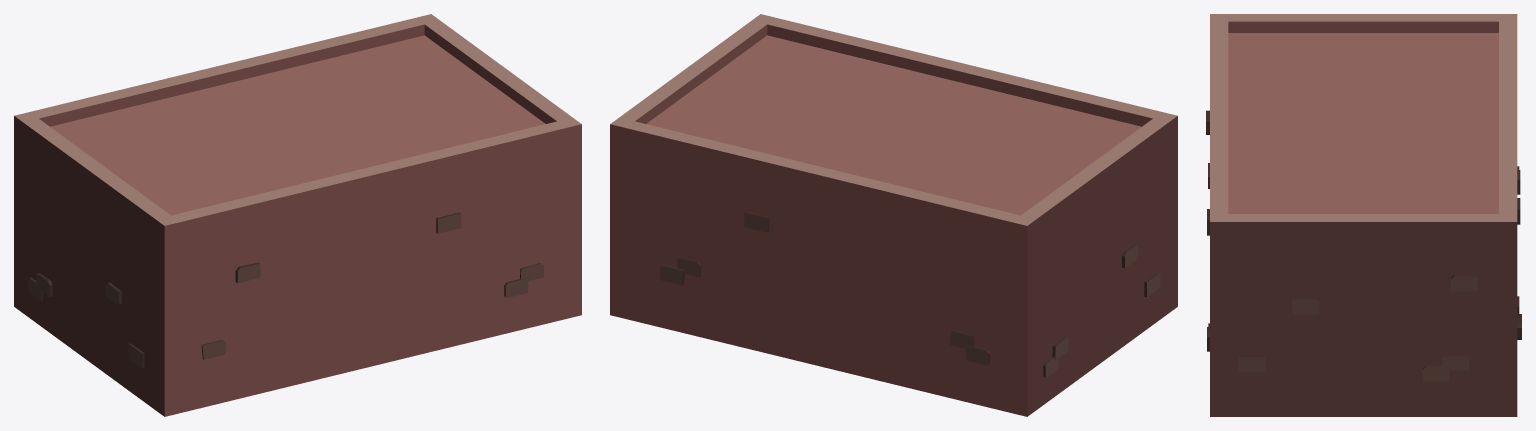
Rendered from TB_D_Bd_Body_Wide_Red.FBX.
3 renders of one model, left to right at view 1: azimuth 30°, elevation 25°; view 2: azimuth 150°, elevation 25°; view 3: azimuth 270°, elevation 25°, orthographic. The views are drawn at different scales.
Visible parts, largest first — view 1: TB_D_Bd_Body_Wide_Red; view 2: TB_D_Bd_Body_Wide_Red; view 3: TB_D_Bd_Body_Wide_Red.
Boxes of the visible parts, x1,y1,x2,y2 form: TB_D_Bd_Body_Wide_Red: (14, 14, 581, 416); TB_D_Bd_Body_Wide_Red: (610, 14, 1177, 416); TB_D_Bd_Body_Wide_Red: (1206, 14, 1521, 416).
Bounding box in the file's own units: 8.12 × 3.5 × 5.14.
